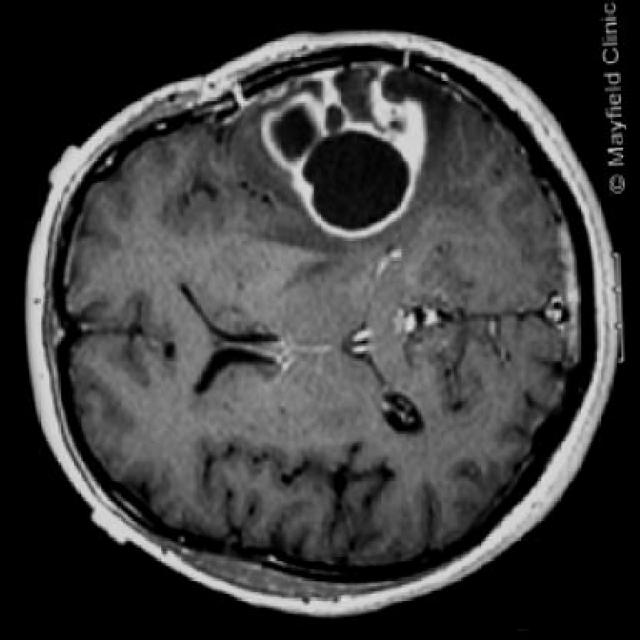Brain-Tumor: (236, 64, 472, 246)
